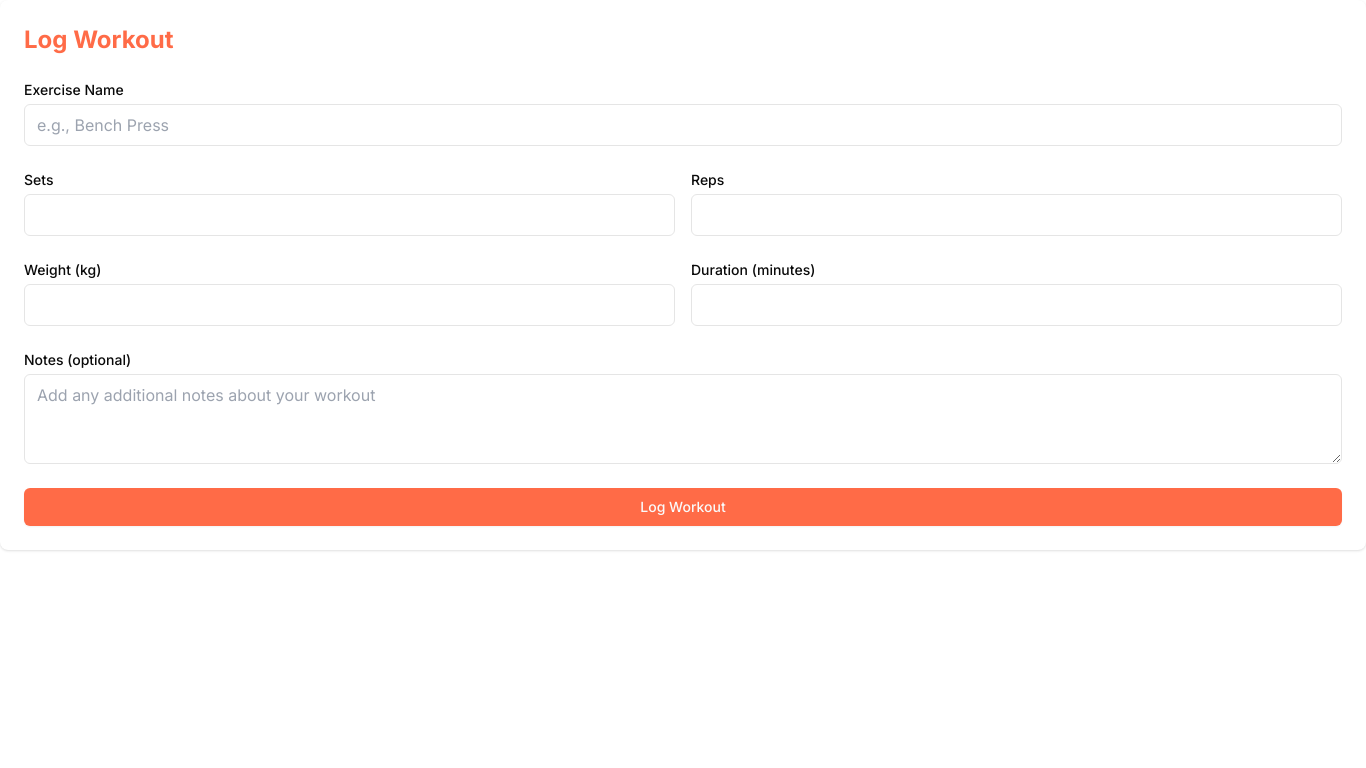
Test: WorkoutLog › handles API errors
In the field labelled "Exercise Name": (683, 125) [24,104,1342,146], type "Bench Press"
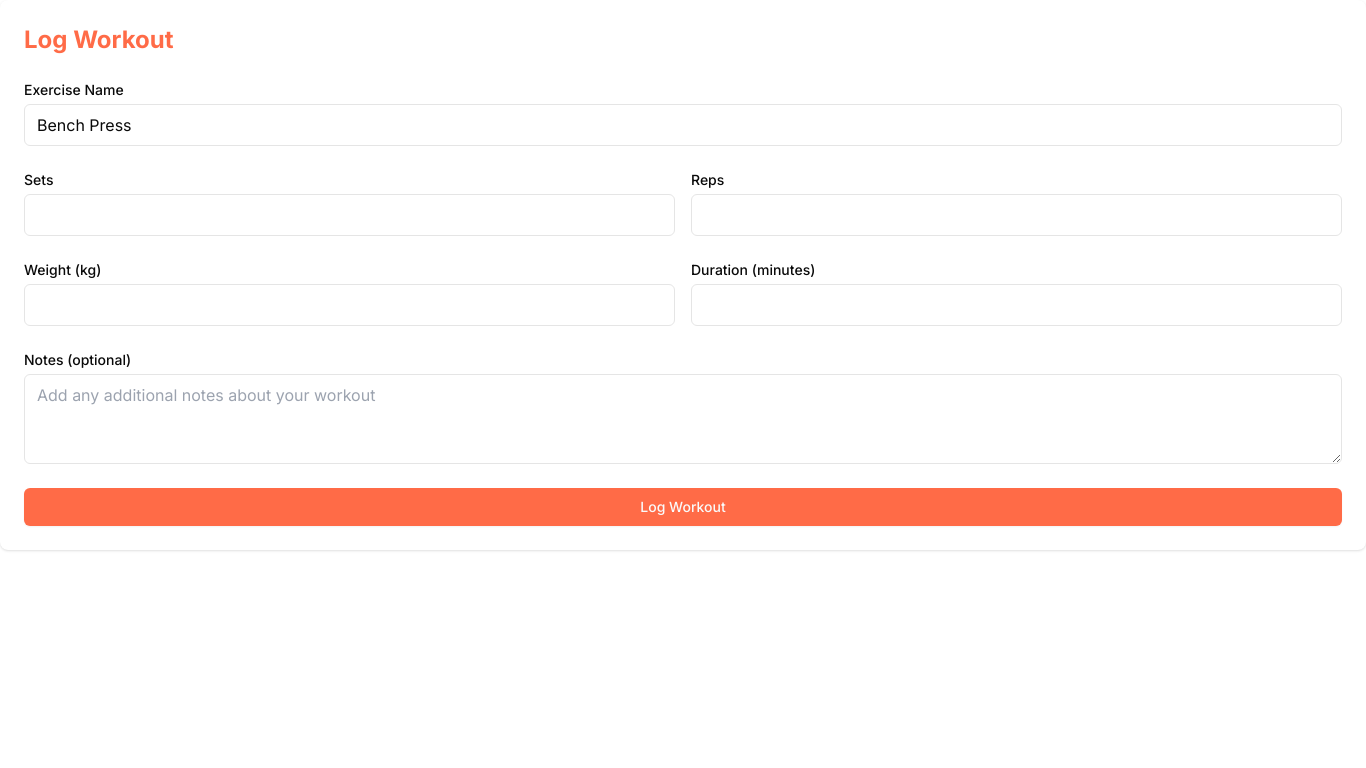
In the number field labelled "Sets": (350, 215) [24,194,675,236], type "3"
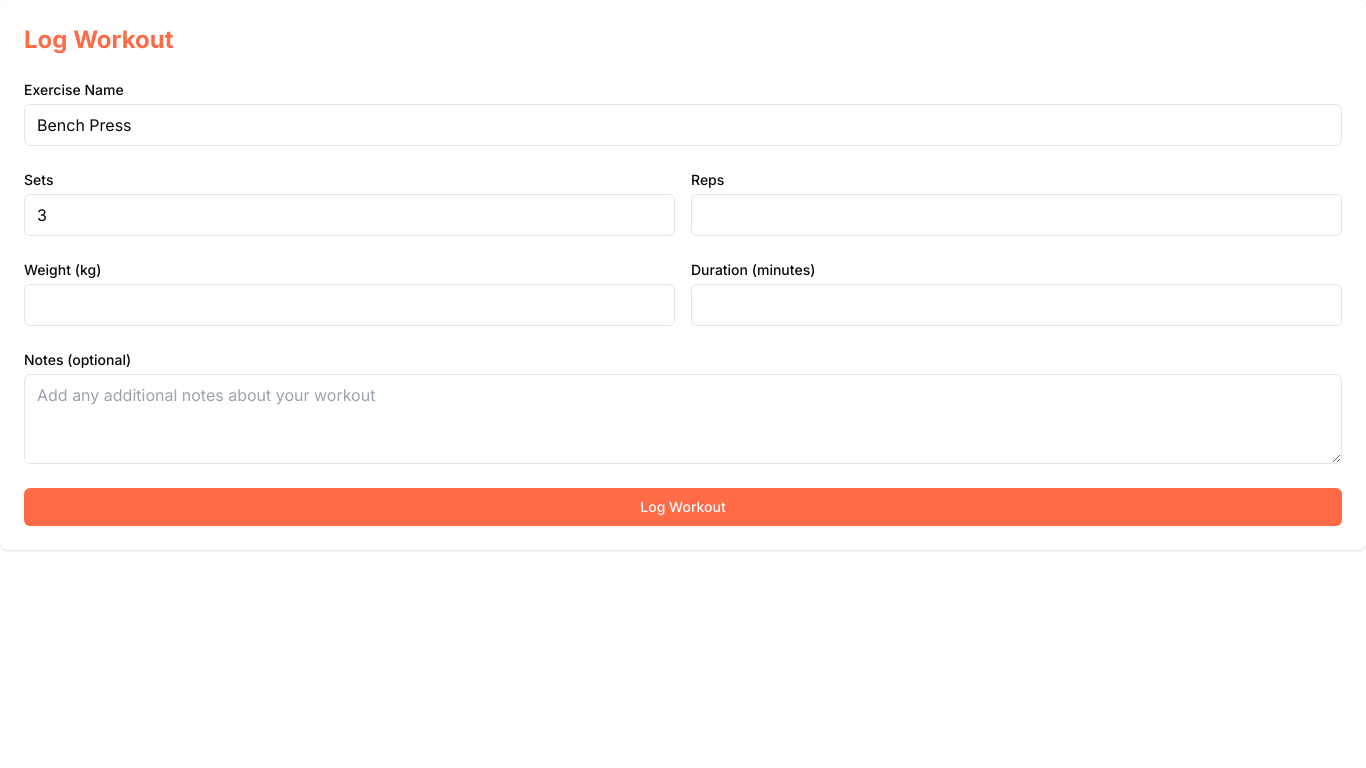
In the number field labelled "Reps": (1016, 215) [691,194,1342,236], type "10"
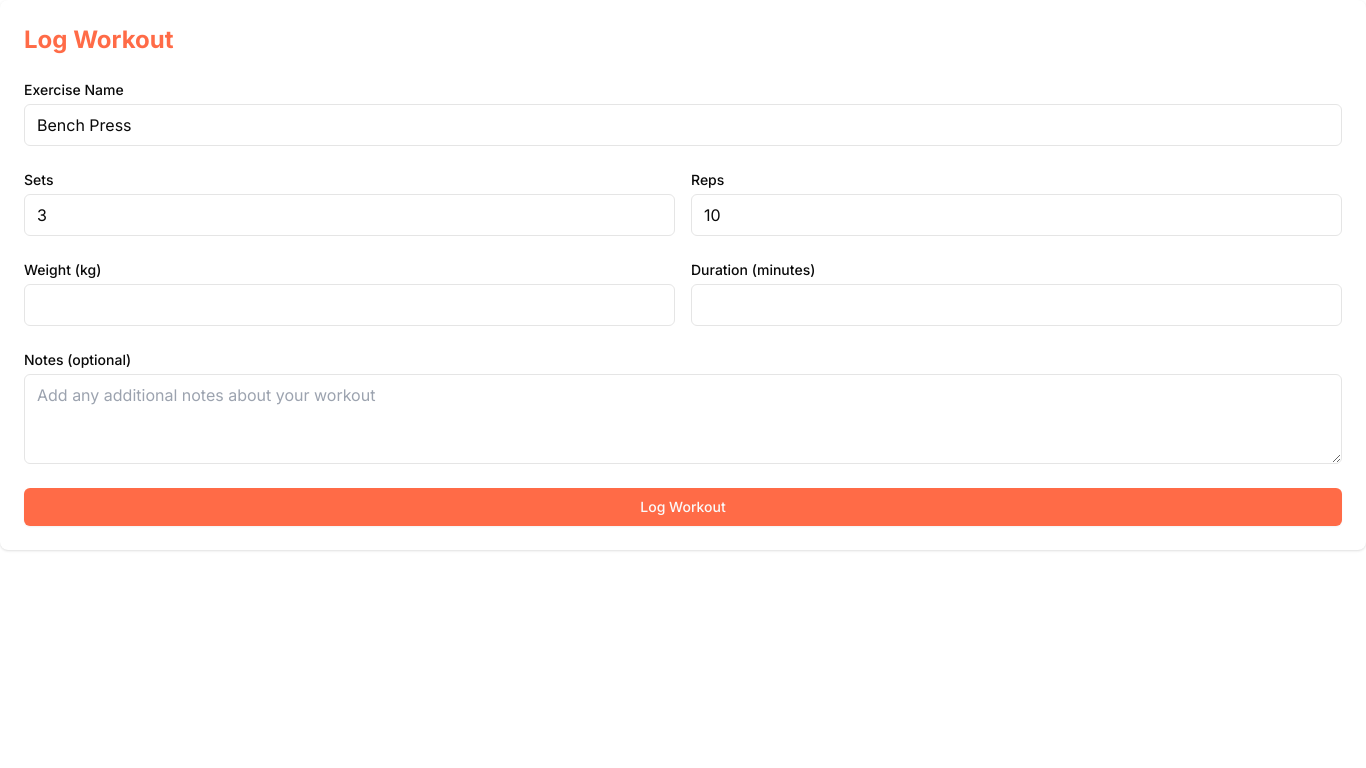
In the number field labelled "Weight (kg)": (350, 305) [24,284,675,326], type "100"
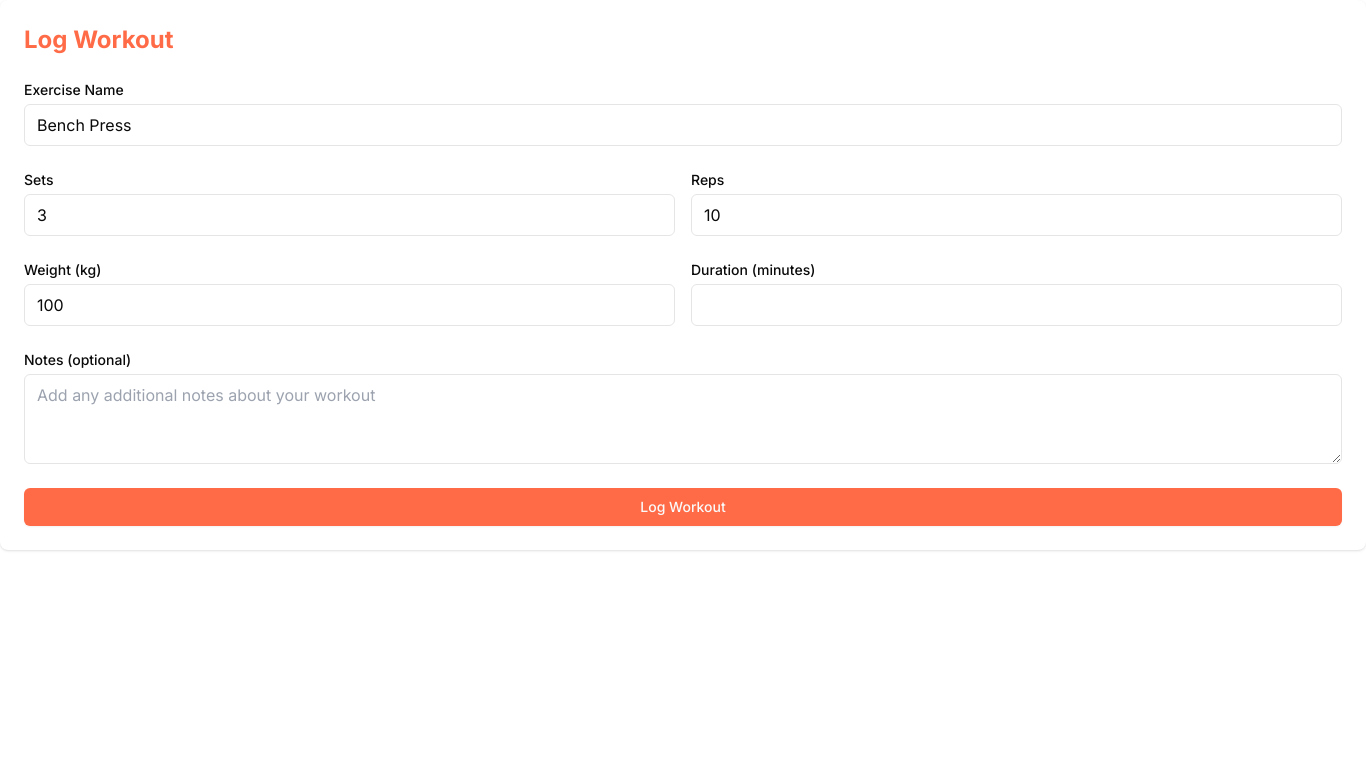
In the number field labelled "Duration (minutes)": (1016, 305) [691,284,1342,326], type "30"
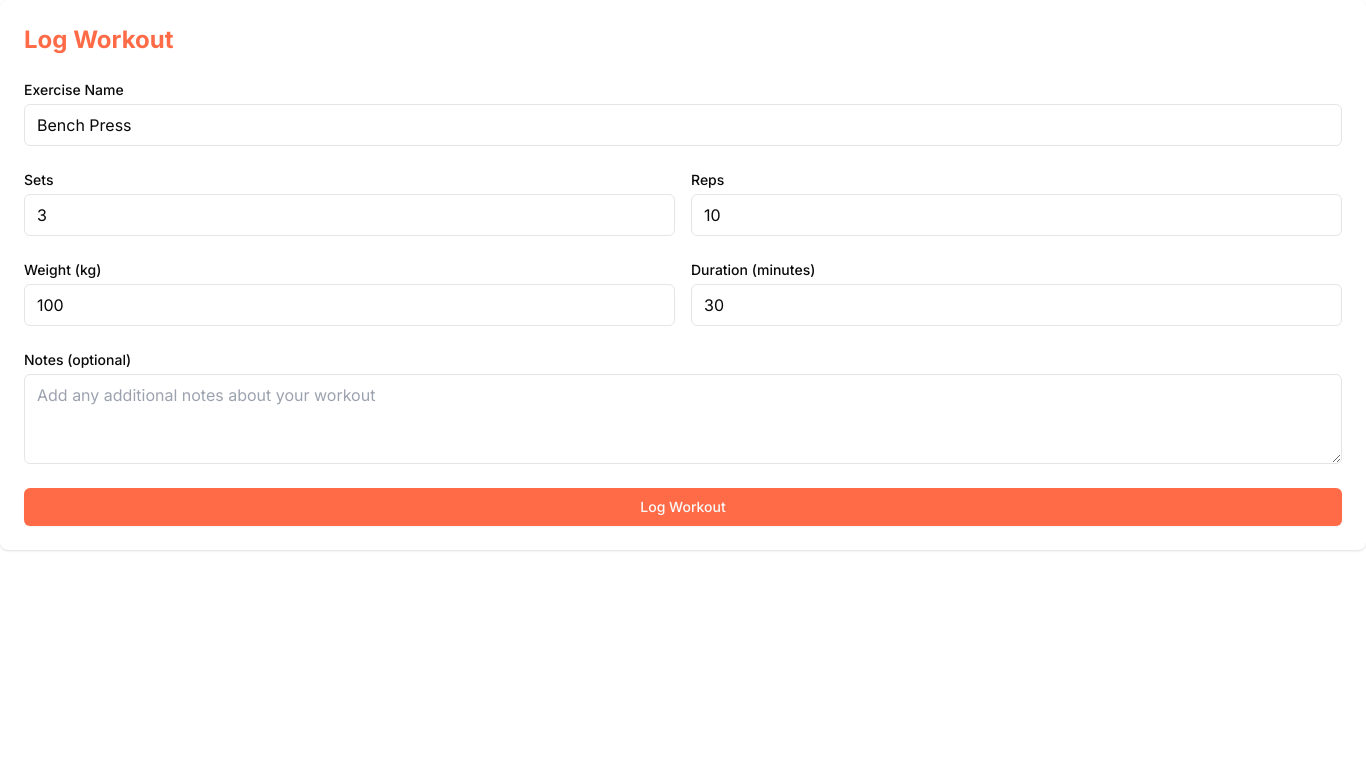
Click the button "Log Workout": (683, 507) [24,488,1342,526]
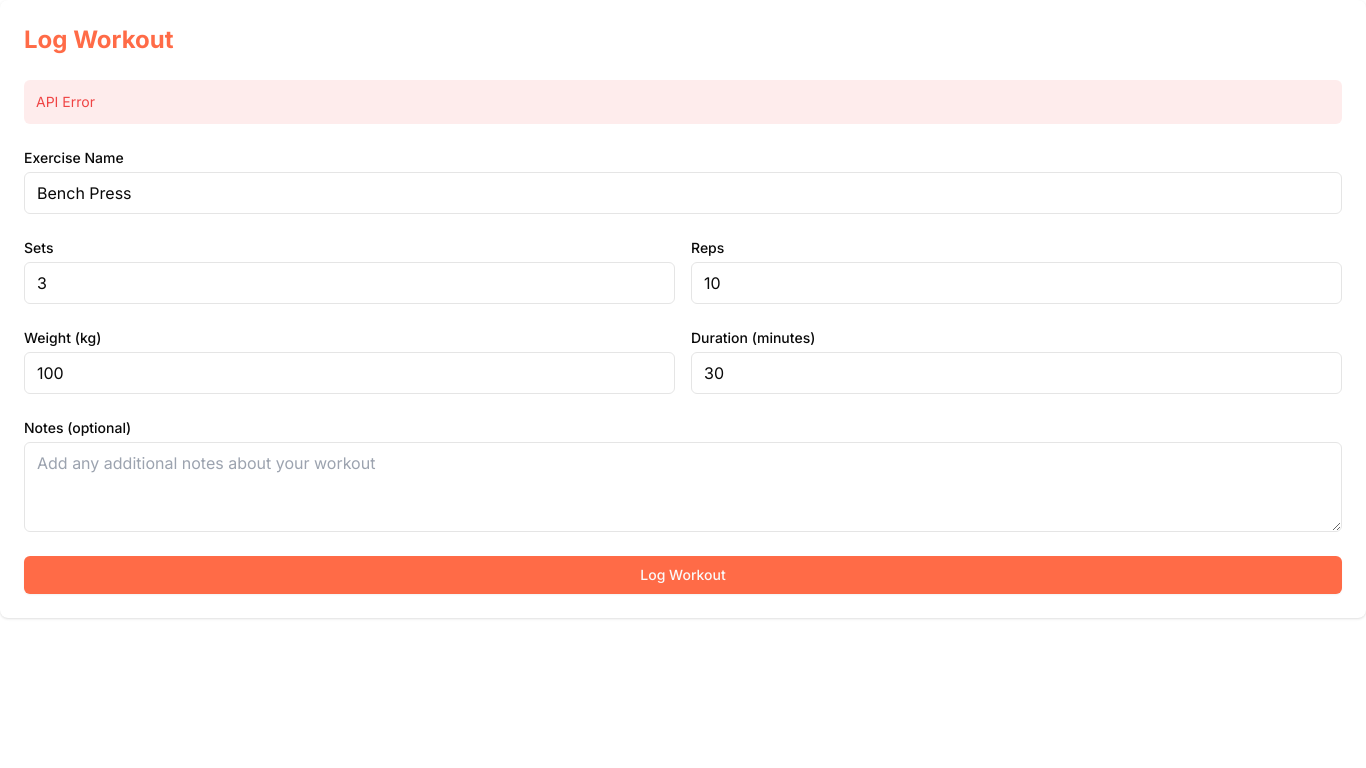
Expected: the text "API Error" is shown, [24,80,1342,124]
